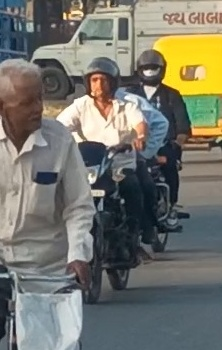BikeWithRider: (49, 44, 195, 308), (113, 45, 195, 255)
Helmet: (78, 52, 124, 102), (131, 45, 171, 88)
NoHelmet: (0, 54, 50, 135)
